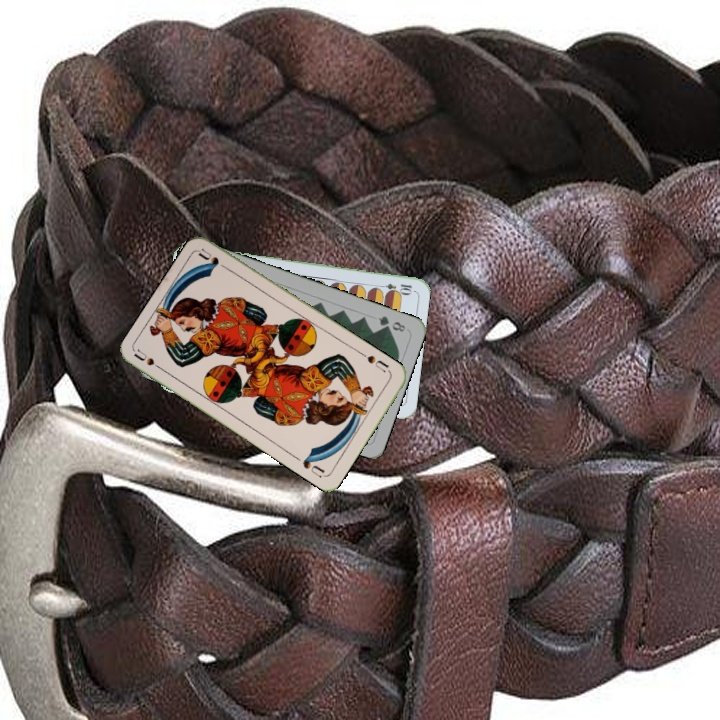E10: (374, 279, 414, 295)
G8: (374, 312, 408, 334)
SU: (131, 346, 169, 375), (357, 349, 393, 376)
